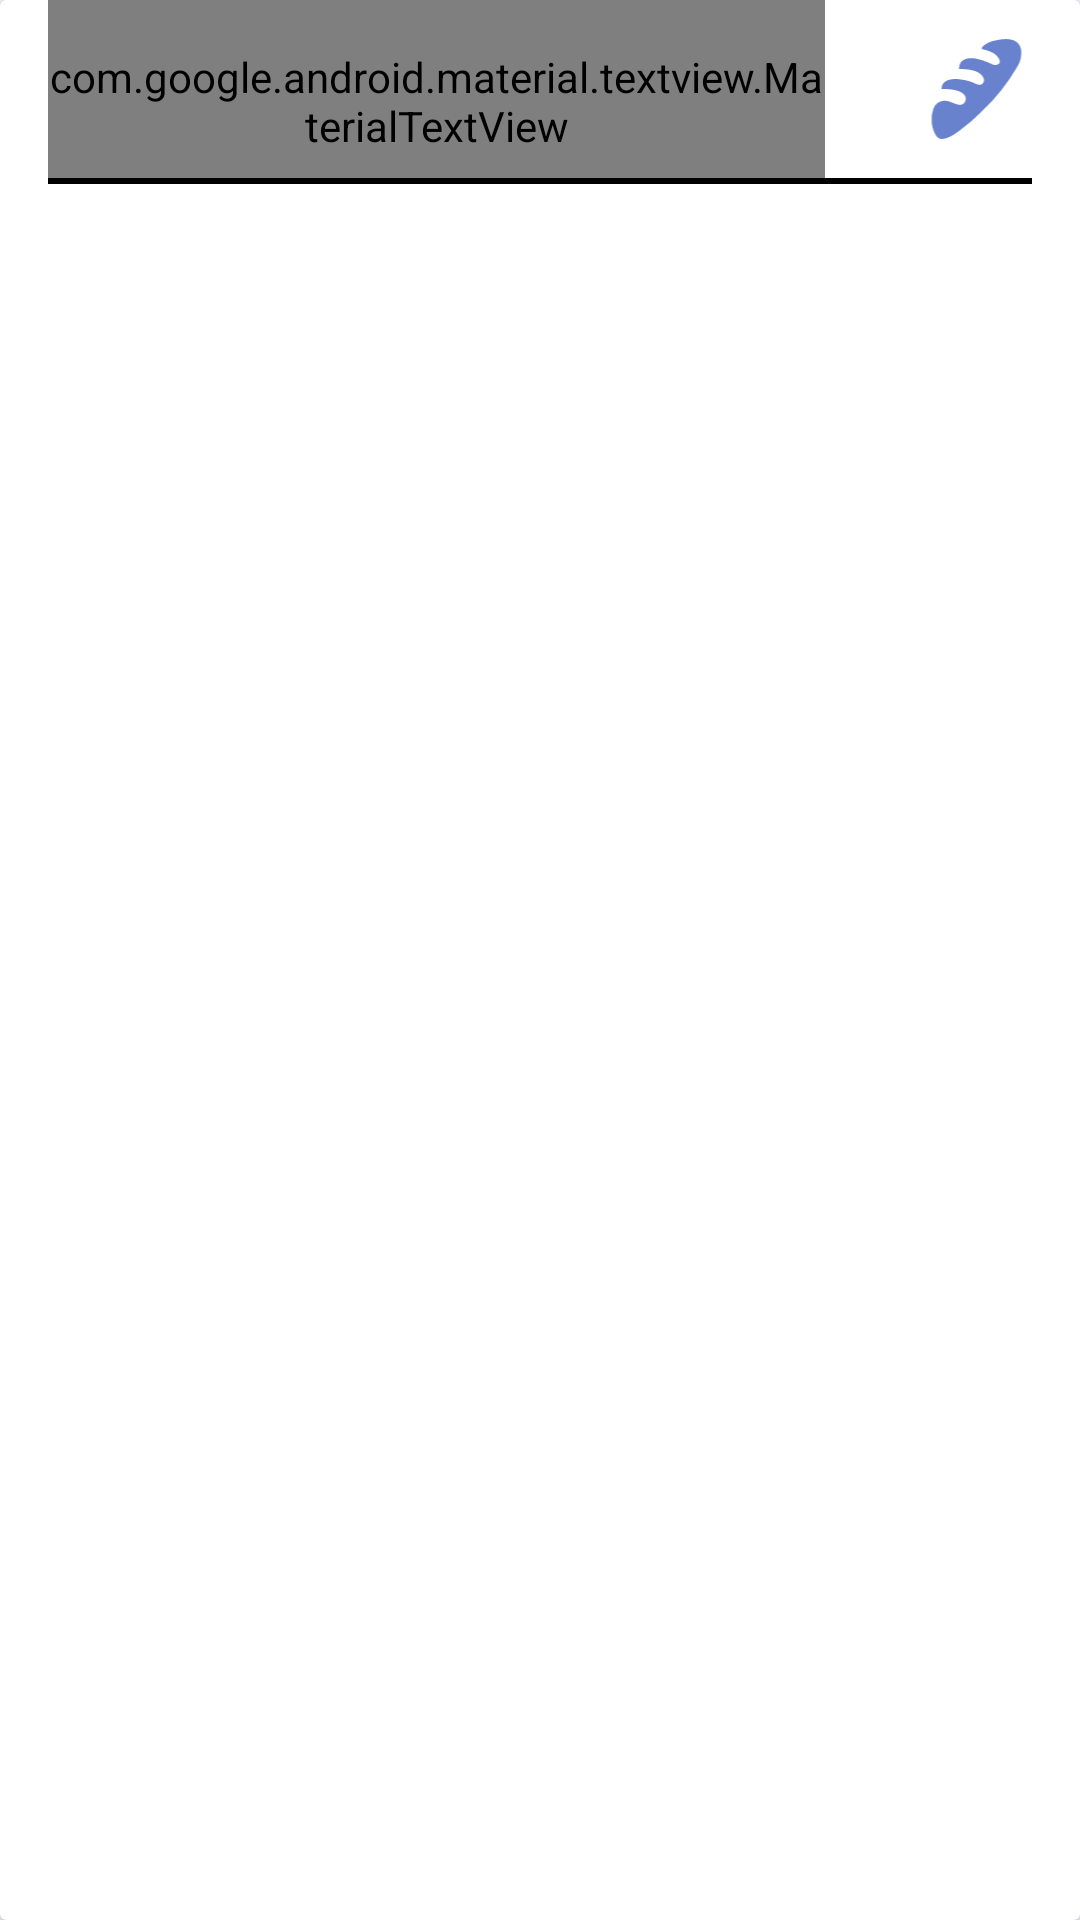

Point at icon controls on the screen. Image size 1080x1920, points as (x,y).
baguette: (976,89)
